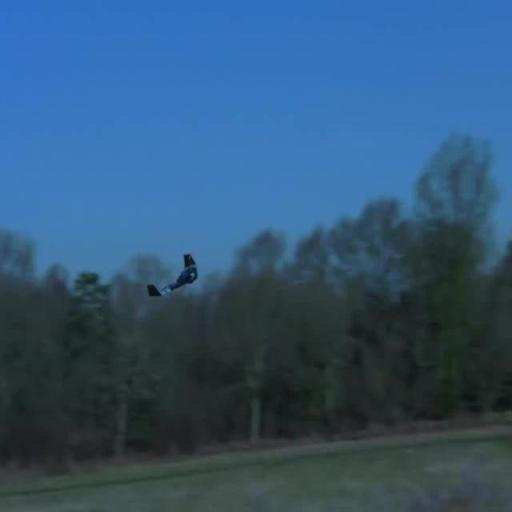uav: (147, 249, 203, 307)
